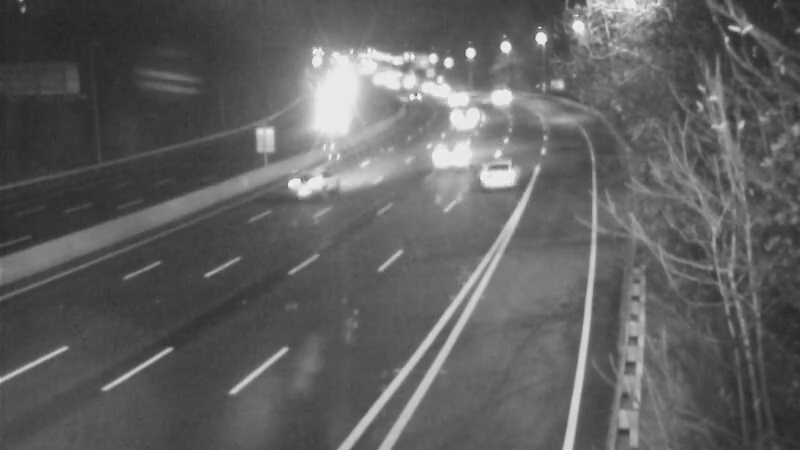vehicle: (419, 115, 499, 195), (457, 129, 537, 209), (276, 141, 356, 221), (387, 71, 437, 121), (473, 68, 523, 118), (430, 71, 480, 121), (430, 96, 480, 146)
